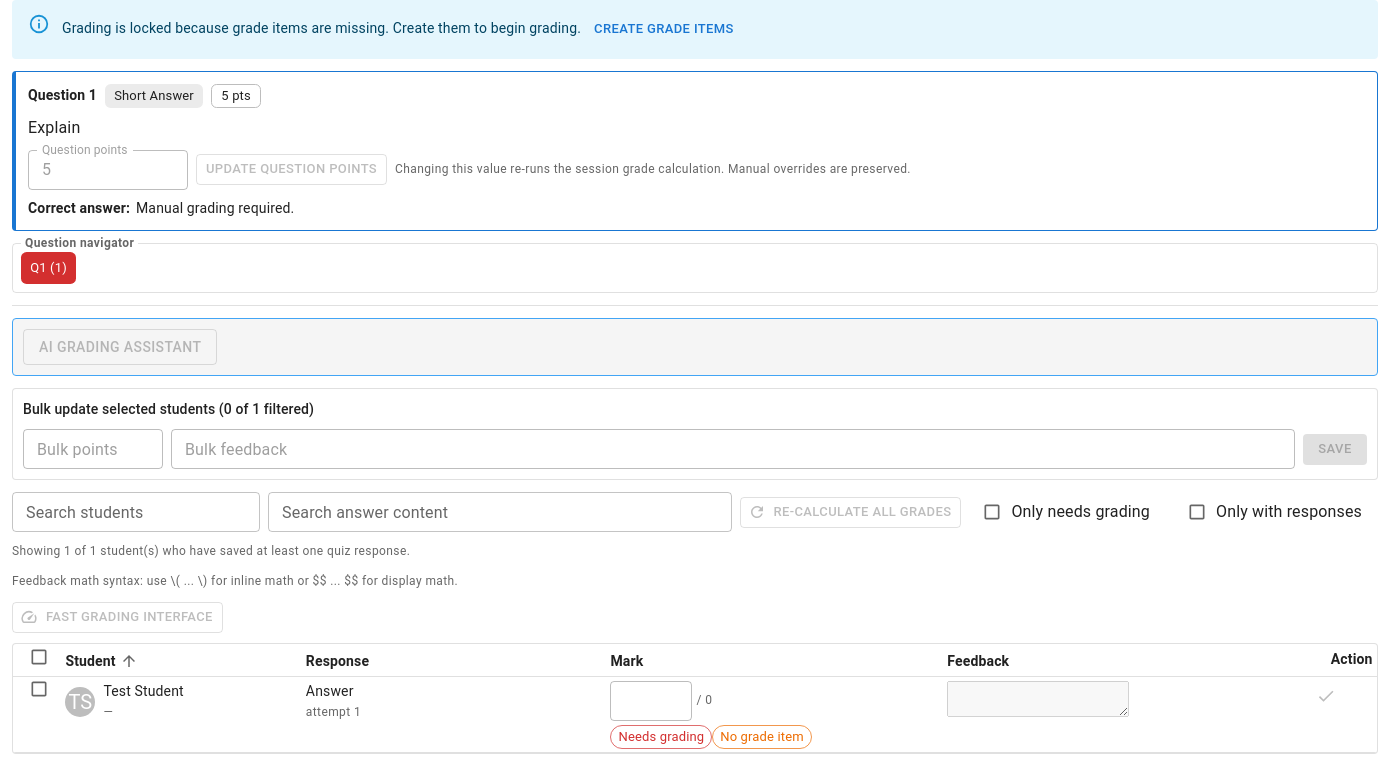
Scenario: Grading readiness locks › offers explicit creation when grade items are missing and unlocks after creation
expect the button "AI Grading Assistant" is disabled: met, box top-left (23, 329), bottom-right (217, 365)
Click the button "Create grade items": [664, 29] box top-left (589, 14), bottom-right (739, 45)
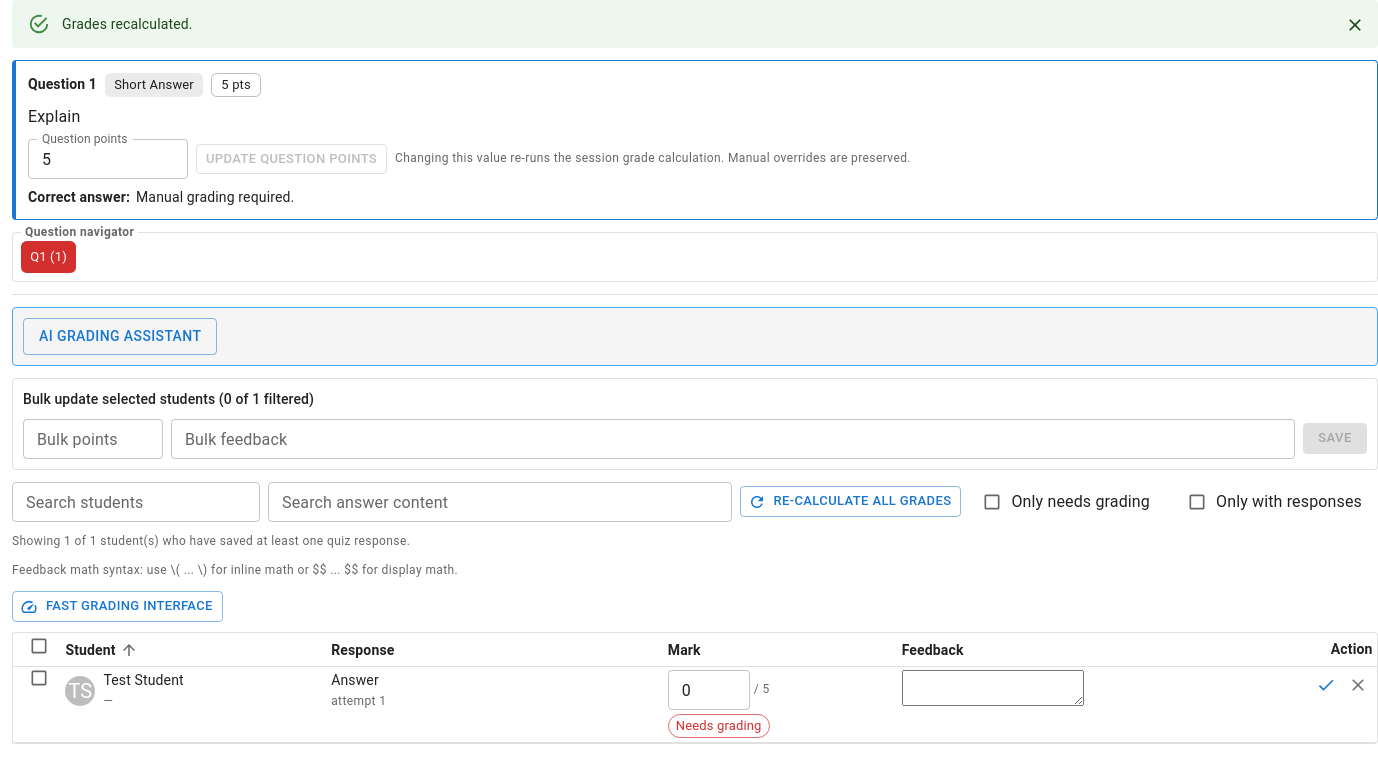
expect the button "Create grade items" is gone: met
expect the button "AI Grading Assistant" is enabled: met, box top-left (23, 318), bottom-right (217, 354)
